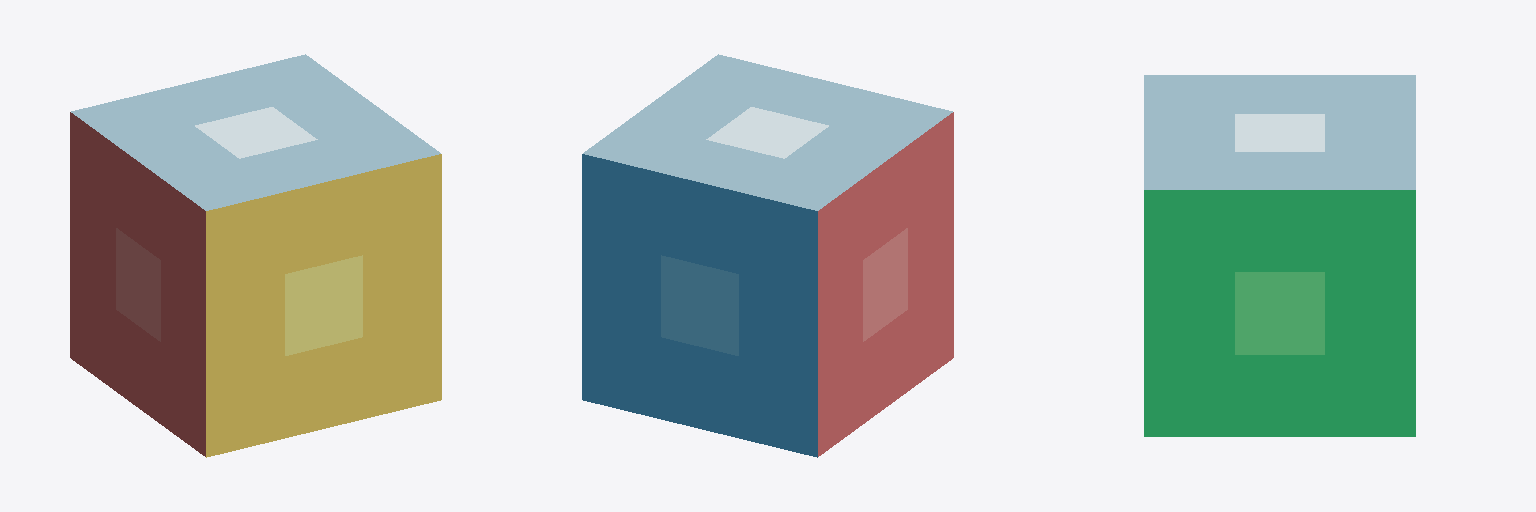
3 renders of one model, left to right at view 1: azimuth 30°, elevation 25°; view 2: azimuth 150°, elevation 25°; view 3: azimuth 270°, elevation 25°, orthographic.
Visible parts, largest first — view 1: cube; view 2: cube; view 3: cube.
Boxes of the visible parts, x1=… form: cube: x1=70, y1=54, x2=441, y2=457; cube: x1=582, y1=54, x2=953, y2=457; cube: x1=1144, y1=75, x2=1415, y2=436.
Size of the model in its own units: 0.1875 by 0.1875 by 0.1875.
Materials: 1 (1 with a texture image).